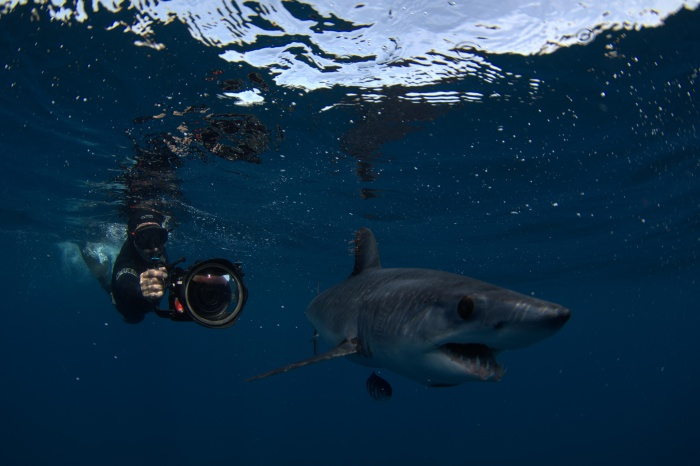Mako: (232, 222, 572, 407)
